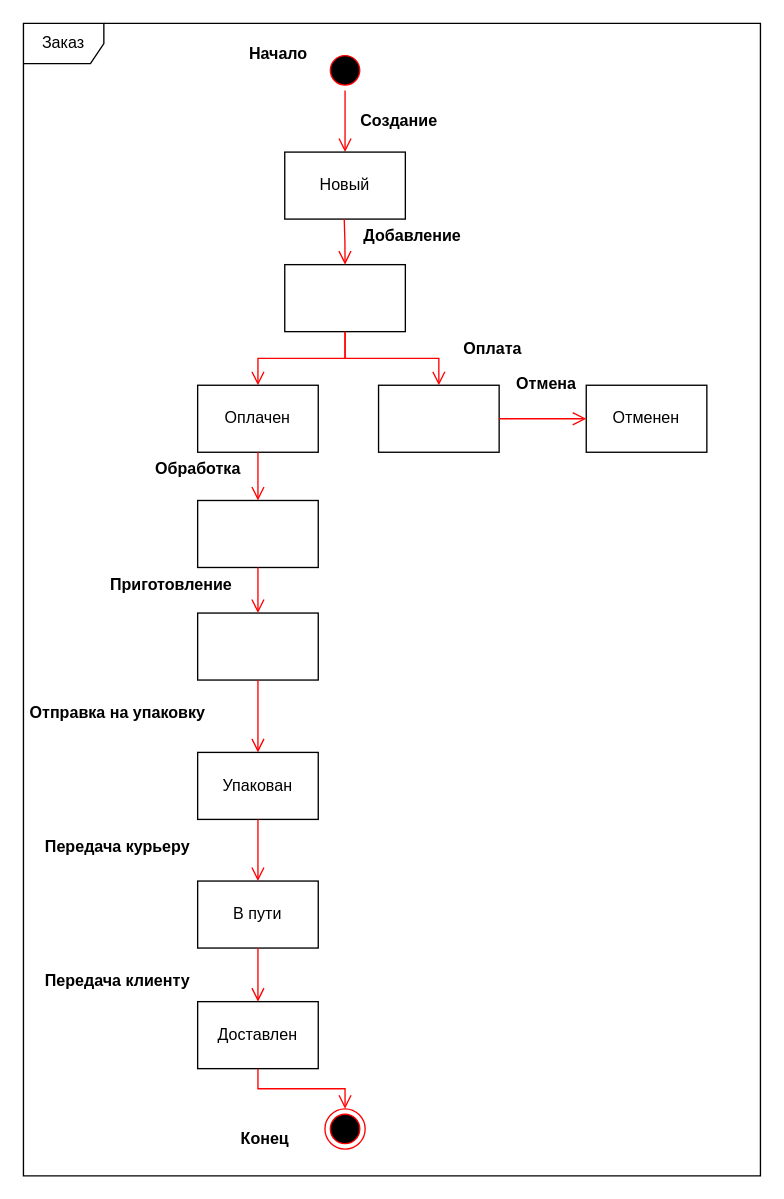
Some shapes in this 784 by 1199 pixel diagram are drawn without their labels. The centre of each missing label's shape, as x and y in pixels:
"Готов" goes at point (257, 646).
"Не оплачен" goes at point (438, 418).
"Передан в ресторан" goes at point (257, 533).
"Расширен" goes at point (344, 297).
